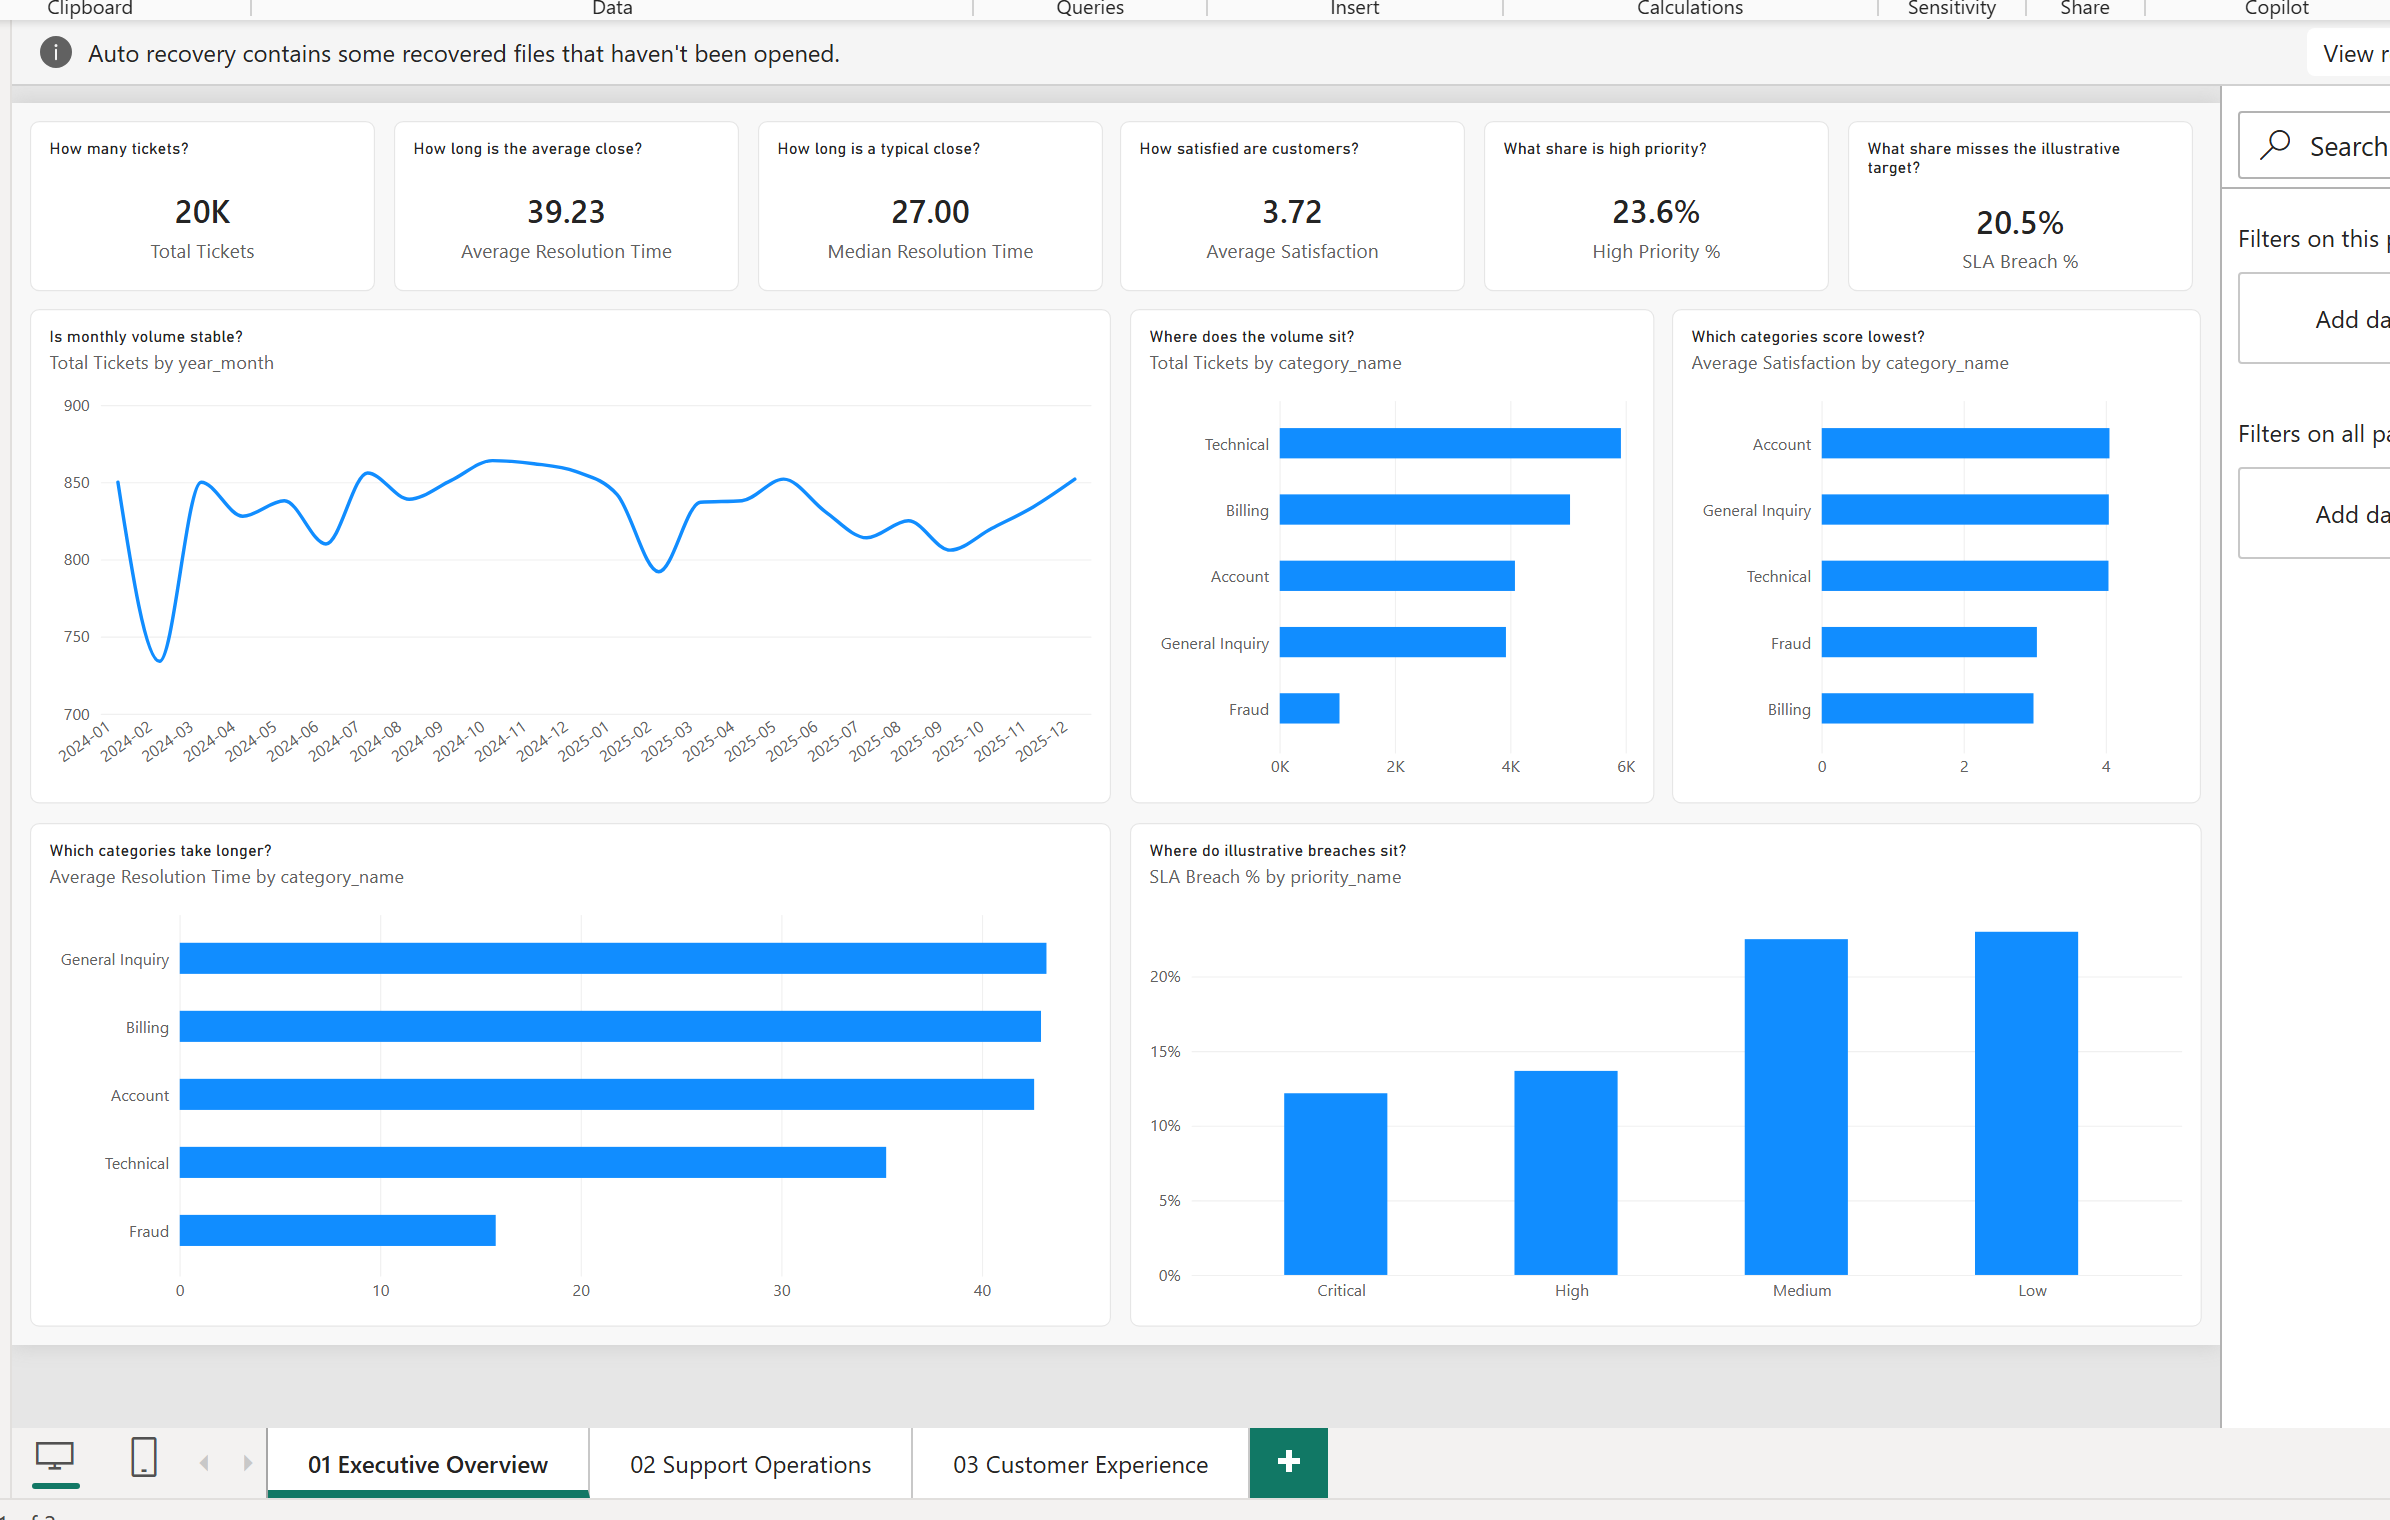

The page's visual inventory and layout, read from the dashboard file:
{"tool":"powerbi","page":{"name":"01 Executive Overview","canvas":[1920,1080],"ordinal":0},"visuals":[{"type":"card","title":"How many tickets?","fields":{"Values":["fact_tickets.Total Tickets"]},"box":[16,16,300,148],"z":0},{"type":"card","title":"How long is the average close?","fields":{"Values":["fact_tickets.Average Resolution Time"]},"box":[332,16,300,148],"z":1},{"type":"card","title":"How long is a typical close?","fields":{"Values":["fact_tickets.Median Resolution Time"]},"box":[648,16,300,148],"z":2},{"type":"card","title":"How satisfied are customers?","fields":{"Values":["fact_tickets.Average Satisfaction"]},"box":[964,16,300,148],"z":3},{"type":"card","title":"What share is high priority?","fields":{"Values":["fact_tickets.High Priority %"]},"box":[1280,16,300,148],"z":4},{"type":"card","title":"What share misses the illustrative target?","fields":{"Values":["fact_tickets.SLA Breach %"]},"box":[1596,16,300,148],"z":5},{"type":"lineChart","title":"Is monthly volume stable?","fields":{"Category":["dim_date.year_month"],"Y":["fact_tickets.Total Tickets"]},"box":[16,180,940,430],"z":10},{"type":"clusteredBarChart","title":"Where does the volume sit?","fields":{"Category":["dim_category.category_name"],"Y":["fact_tickets.Total Tickets"]},"box":[972,180,456,430],"z":11},{"type":"clusteredBarChart","title":"Which categories score lowest?","fields":{"Category":["dim_category.category_name"],"Y":["fact_tickets.Average Satisfaction"]},"box":[1444,180,460,430],"z":12},{"type":"clusteredBarChart","title":"Which categories take longer?","fields":{"Category":["dim_category.category_name"],"Y":["fact_tickets.Average Resolution Time"]},"box":[16,626,940,438],"z":13},{"type":"clusteredColumnChart","title":"Where do illustrative breaches sit?","fields":{"Category":["dim_priority.priority_name"],"Y":["fact_tickets.SLA Breach %"]},"box":[972,626,932,438],"z":14}]}

Visuals, with their boxes on the page's 1920x1080 design canvas (x1, y1, x2, y2). These are canvas units, not pixel positions in the 2390x1520 screenshot, which may show the page scaled, cropped or inside an application window:
"How many tickets?" card: (x1=16, y1=16, x2=316, y2=164)
"How long is the average close?" card: (x1=332, y1=16, x2=632, y2=164)
"How long is a typical close?" card: (x1=648, y1=16, x2=948, y2=164)
"How satisfied are customers?" card: (x1=964, y1=16, x2=1264, y2=164)
"What share is high priority?" card: (x1=1280, y1=16, x2=1580, y2=164)
"What share misses the illustrative target?" card: (x1=1596, y1=16, x2=1896, y2=164)
"Is monthly volume stable?" lineChart: (x1=16, y1=180, x2=956, y2=610)
"Where does the volume sit?" clusteredBarChart: (x1=972, y1=180, x2=1428, y2=610)
"Which categories score lowest?" clusteredBarChart: (x1=1444, y1=180, x2=1904, y2=610)
"Which categories take longer?" clusteredBarChart: (x1=16, y1=626, x2=956, y2=1064)
"Where do illustrative breaches sit?" clusteredColumnChart: (x1=972, y1=626, x2=1904, y2=1064)
